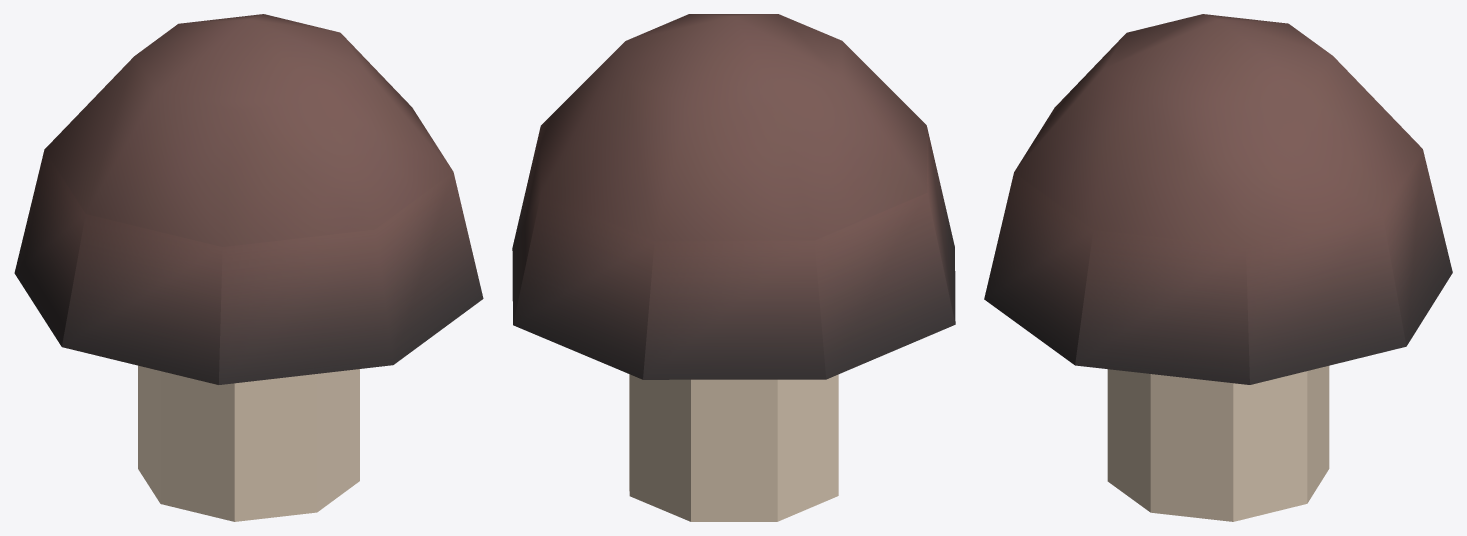
Rendered from ГрибТёмный.fbx.
3 views of the same model, side by side, from view 1: azimuth 30°, elevation 25°; view 2: azimuth 150°, elevation 25°; view 3: azimuth 270°, elevation 25° (orthographic).
Visible parts, largest first — view 1: ГрибТёмный; view 2: ГрибТёмный; view 3: ГрибТёмный.
Boxes of the visible parts, x1=… form: ГрибТёмный: x1=14, y1=14, x2=483, y2=521; ГрибТёмный: x1=512, y1=14, x2=955, y2=521; ГрибТёмный: x1=984, y1=14, x2=1452, y2=521.
Bounding box in the file's own units: 5.31 × 5.69 × 5.31.
